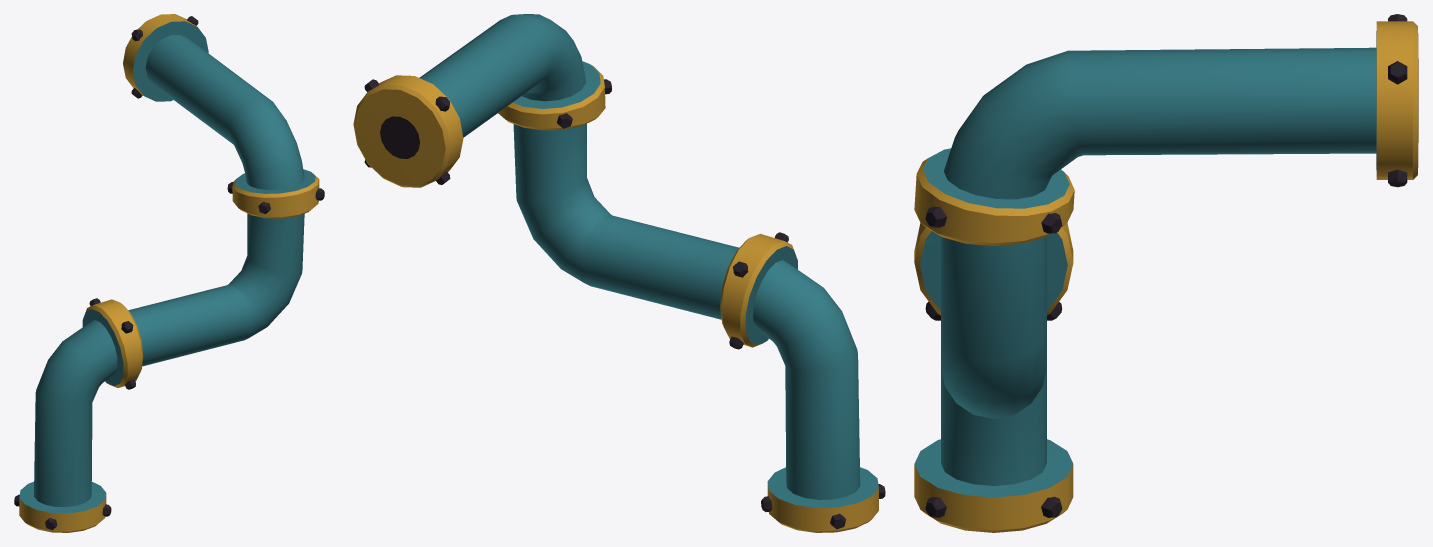
Rendered from PipeRun_02.glb.
The picture shows the model from 3 angles, left to right: view 1: azimuth 30°, elevation 25°; view 2: azimuth 150°, elevation 25°; view 3: azimuth 270°, elevation 25°; orthographic projection. The views are drawn at different scales.
Visible parts, largest first — view 1: PipeRun_02; view 2: PipeRun_02; view 3: PipeRun_02.
Part boxes in pixels (box(x1,y1,x2,y2)): PipeRun_02: box(14, 14, 324, 532); PipeRun_02: box(353, 14, 885, 532); PipeRun_02: box(914, 14, 1418, 532).
Bounding box in the file's own units: 4.33 × 5.22 × 3.6.
